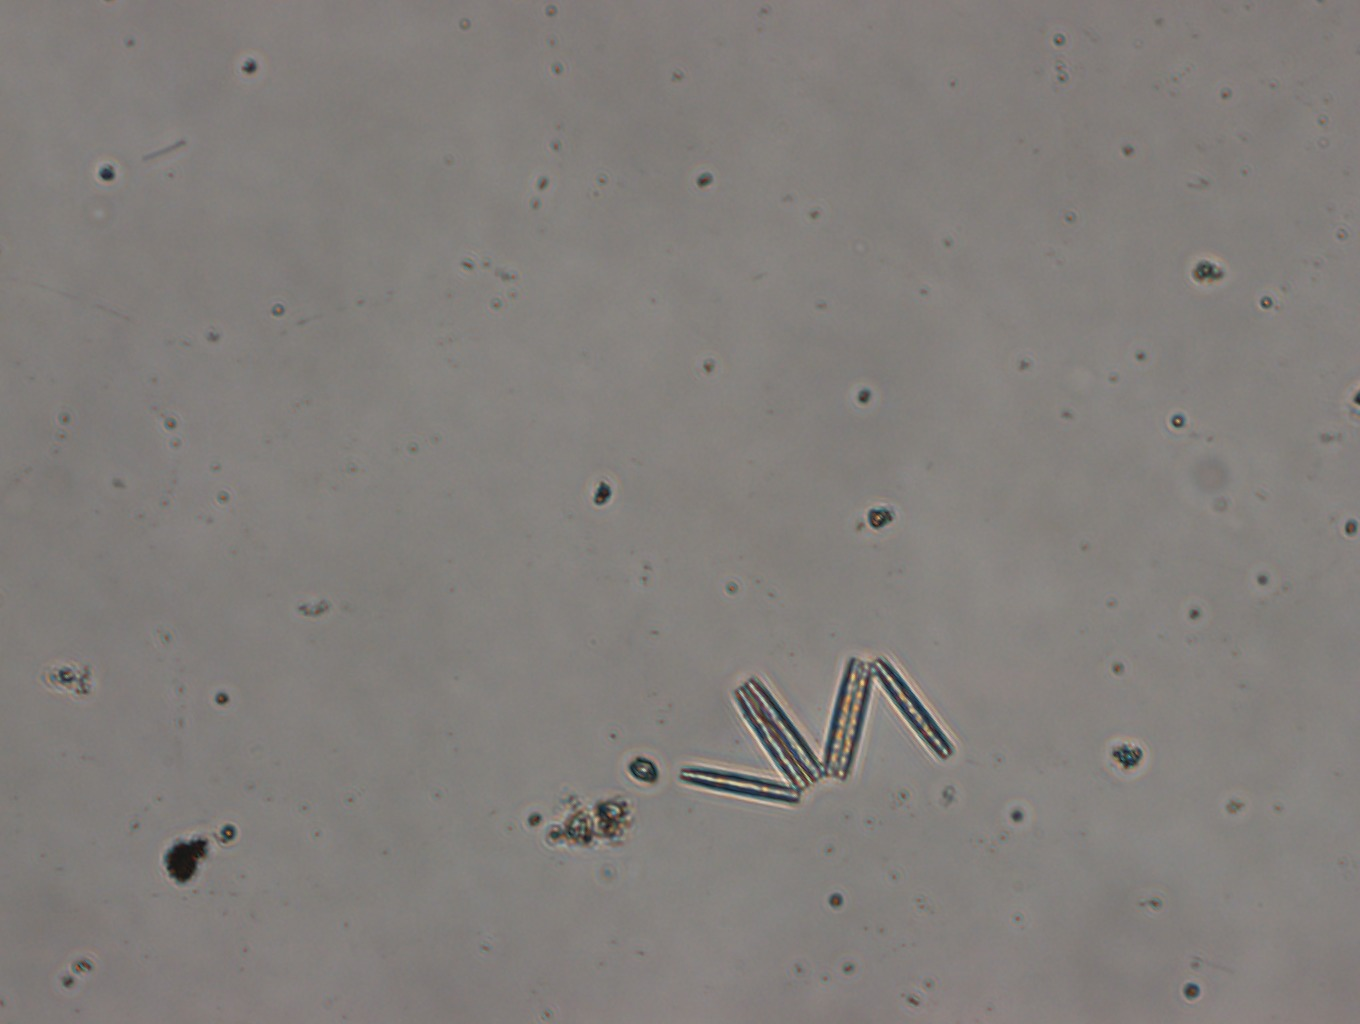thalassionema nitzschioides: (678, 653, 954, 805)
